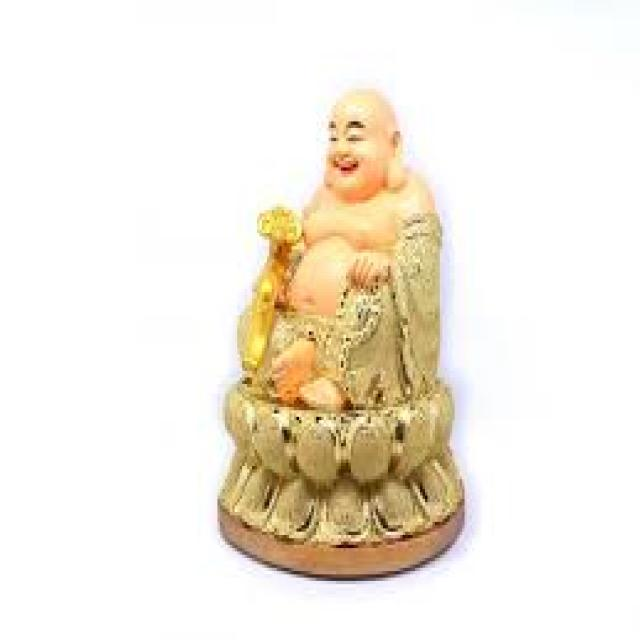Smiling Buddha: (251, 84, 445, 401)
